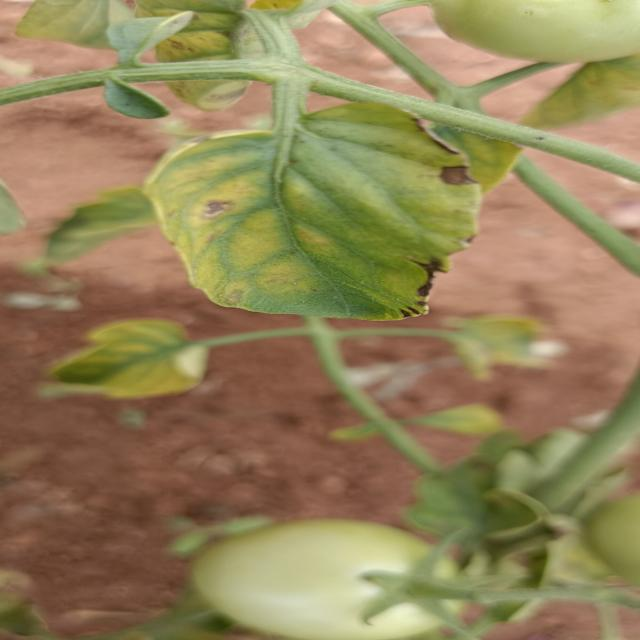tomato_early blight: (141, 102, 481, 320), (35, 314, 225, 398)
